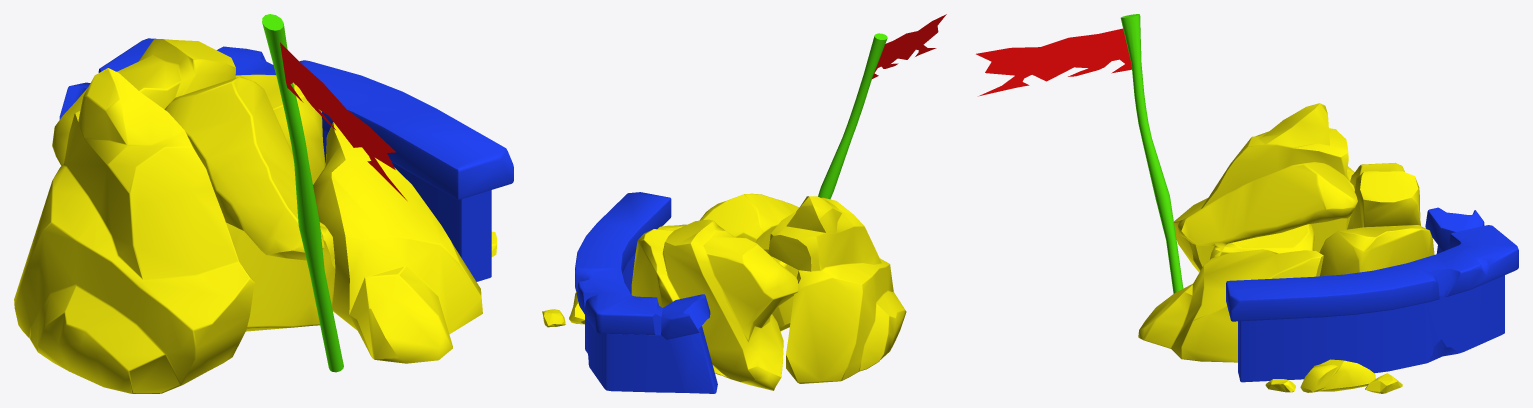
Rendered from SM_Obstacle01.fbx.
3 renders of one model, left to right at view 1: azimuth 30°, elevation 25°; view 2: azimuth 150°, elevation 25°; view 3: azimuth 270°, elevation 25°, orthographic. The views are drawn at different scales.
Parts seen in each view (by area): view 1: Obstacle_01; view 2: Obstacle_01; view 3: Obstacle_01.
Boxes of the visible parts, x1,y1,x2,y2 form: Obstacle_01: (14,14,513,393); Obstacle_01: (542,14,946,393); Obstacle_01: (976,14,1518,393).
Bounding box in the file's own units: 305 × 255 × 454.
